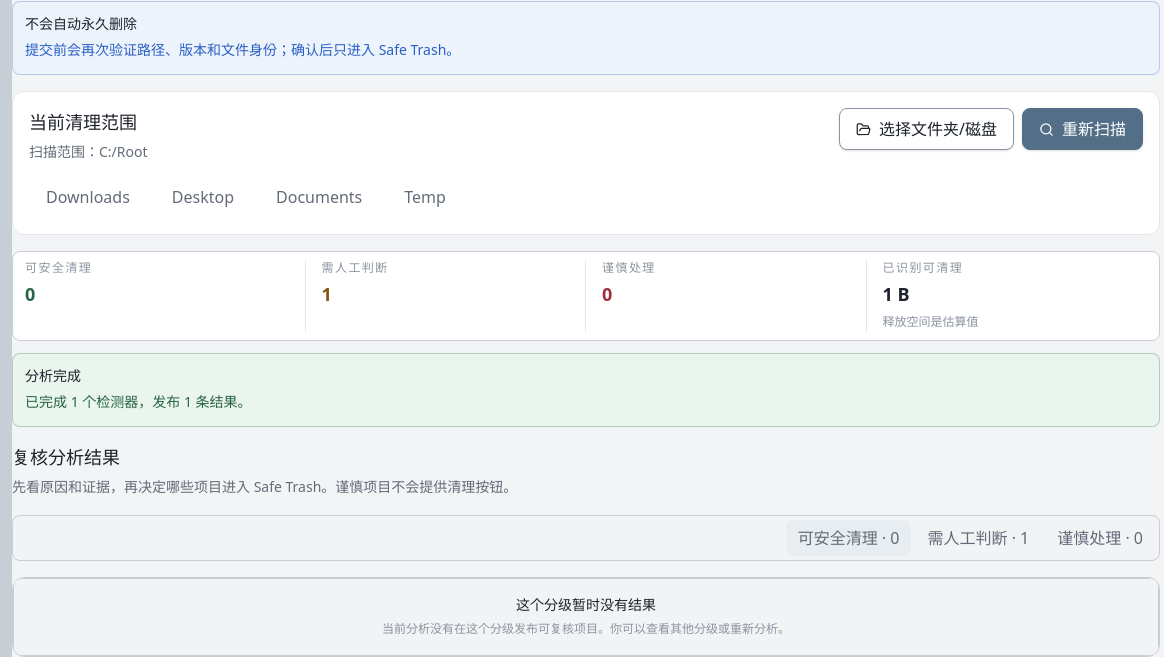
Cleanup independent review behavior › keeps deterministic findings inspectable when provider readiness blocks new Cleanup analysis
(page scrolled)
Click the button "需人工判断 · 1". click: [978, 538]
box: left=916, top=520, right=1041, bottom=556
(page scrolled)
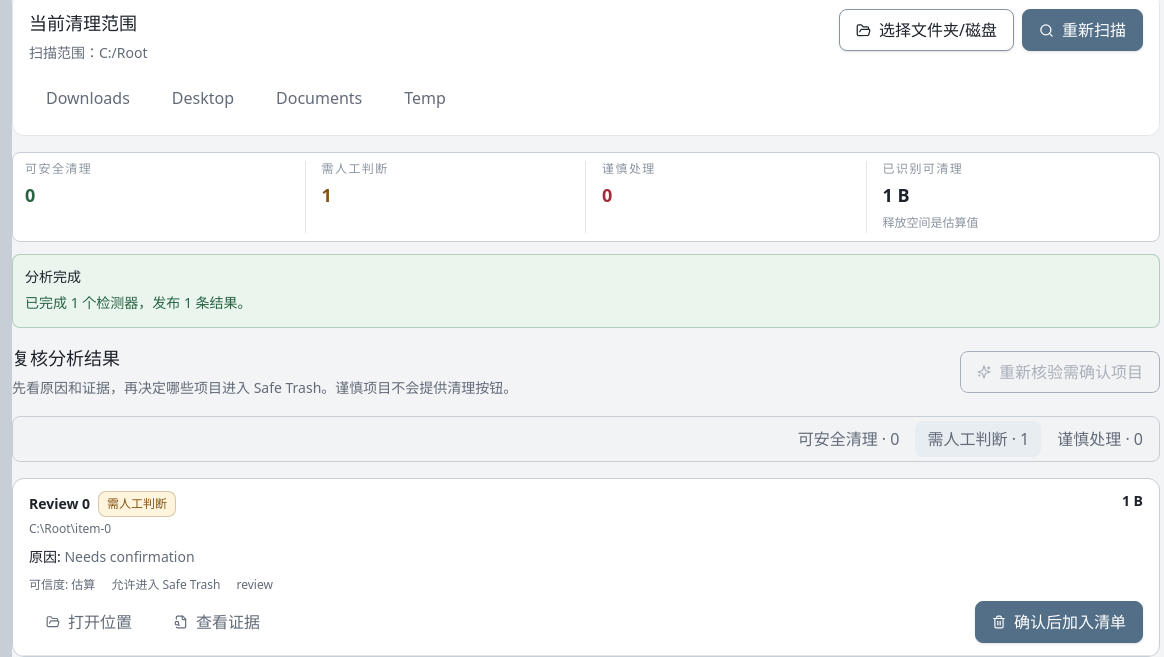
Now the element that starts with "Review 0" is shown, box left=13, top=479, right=1159, bottom=656
Now the button "重新核验需确认项目" is disabled, box left=960, top=351, right=1160, bottom=393
Click the button "查看证据". click: [217, 622]
box: left=157, top=601, right=277, bottom=643
(page scrolled)
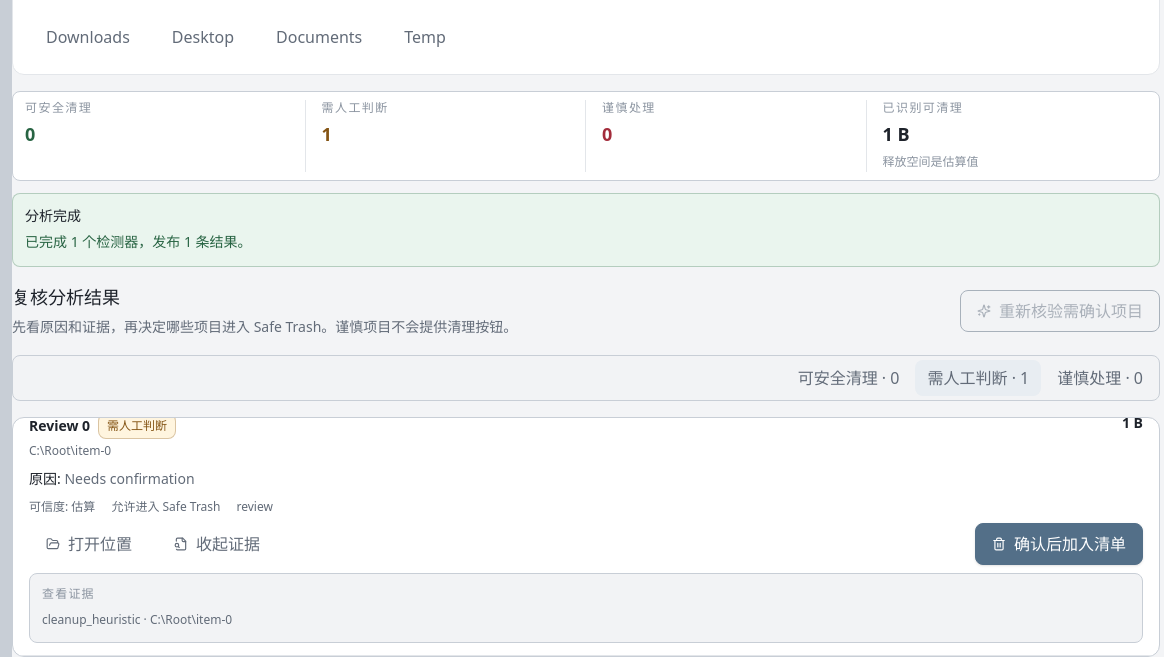
Now the element showing "查看证据 cleanup_heuristic · C:\\Root\\item-0" is shown, box left=29, top=573, right=1143, bottom=643
